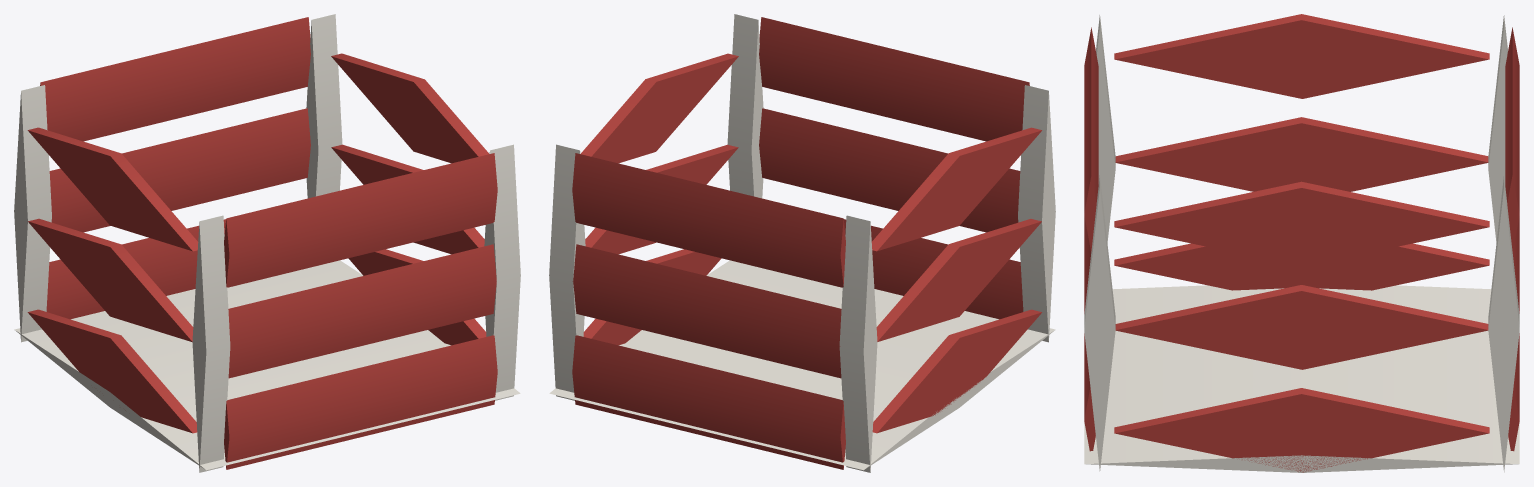
Rendered from crate_lod1.glb.
3 views of the same model, side by side, from view 1: azimuth 30°, elevation 25°; view 2: azimuth 150°, elevation 25°; view 3: azimuth 270°, elevation 25° (orthographic). The views are drawn at different scales.
Parts seen in each view (by area): view 1: crate_lod1; view 2: crate_lod1; view 3: crate_lod1.
Part boxes in pixels (x1,y1,x2,y2): crate_lod1: (14,14,520,472); crate_lod1: (549,14,1055,472); crate_lod1: (1084,14,1519,472).
Bounding box in the file's own units: 0.34 × 0.26 × 0.36.
